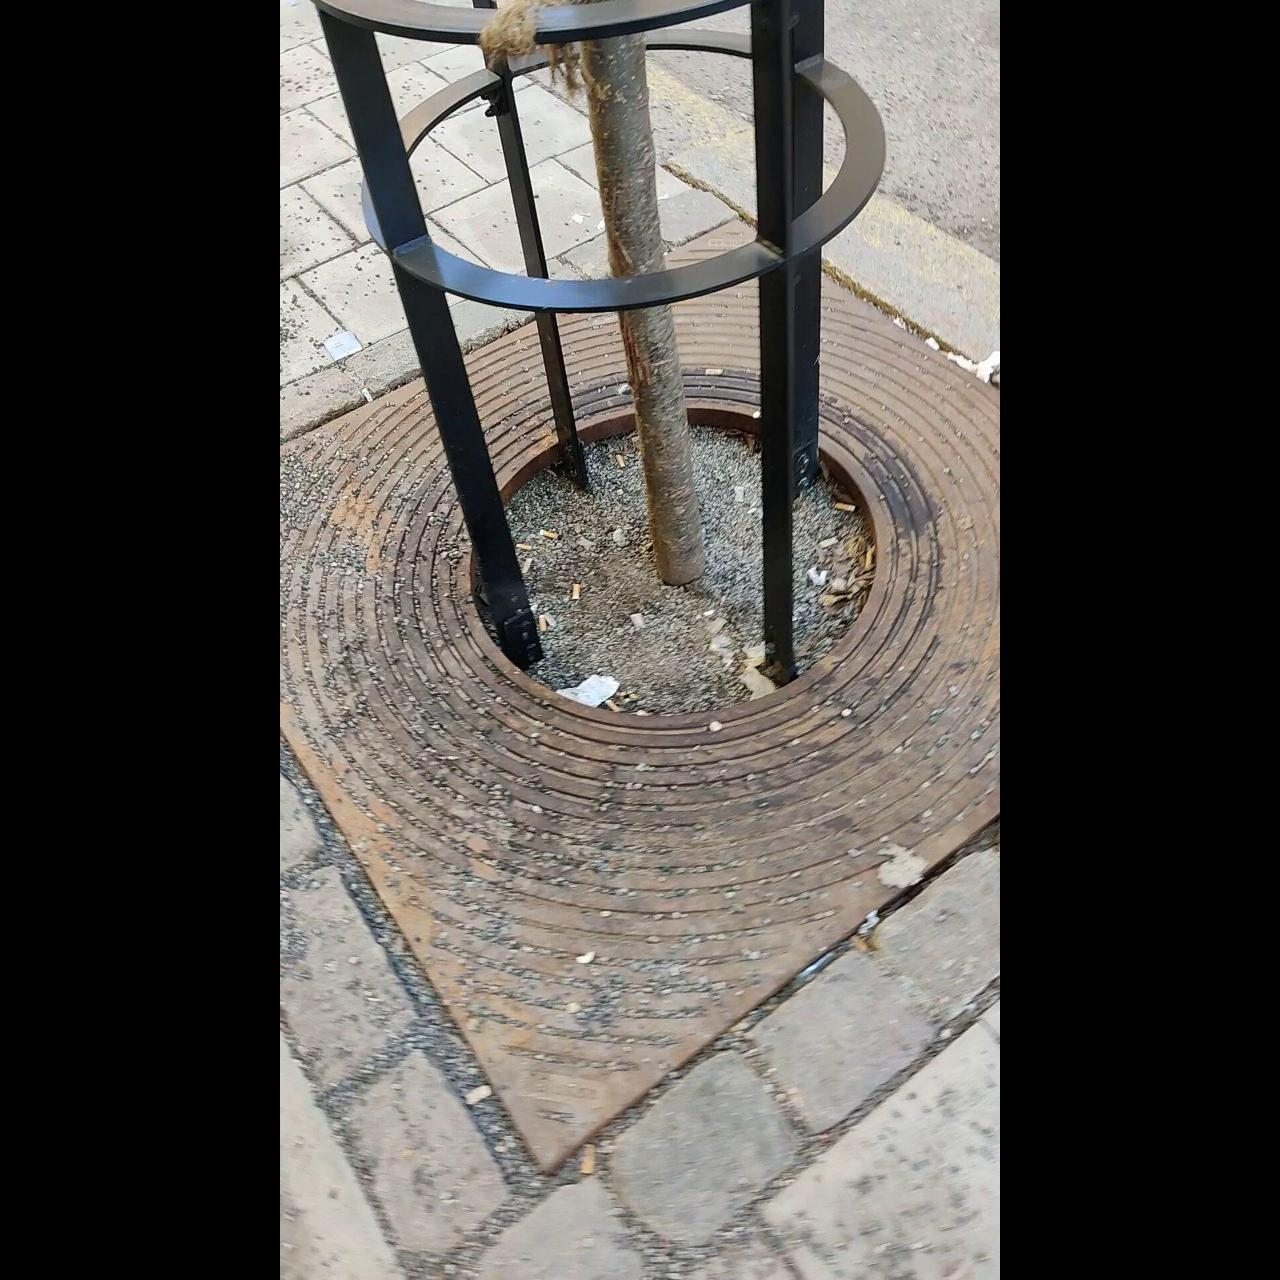cigarettes_butts: (538, 529, 560, 542), (838, 501, 856, 513), (572, 579, 581, 602), (605, 701, 619, 714), (821, 538, 836, 549), (516, 542, 535, 550), (539, 613, 549, 629), (618, 452, 625, 469)
others: (467, 1087, 495, 1108), (577, 1143, 595, 1175), (632, 606, 644, 626), (704, 367, 722, 375)
